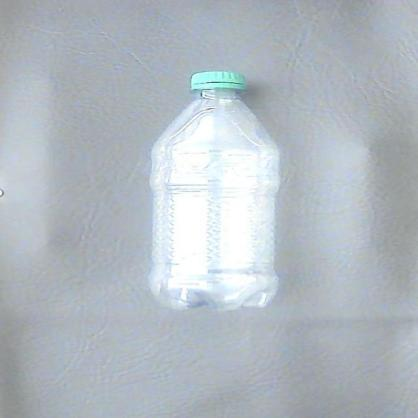bottle: (140, 66, 294, 316)
cap: (185, 68, 253, 94)
